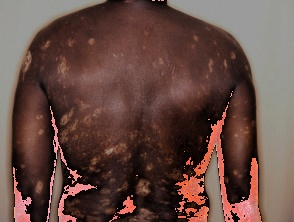vitiligo: (7, 0, 265, 222)
